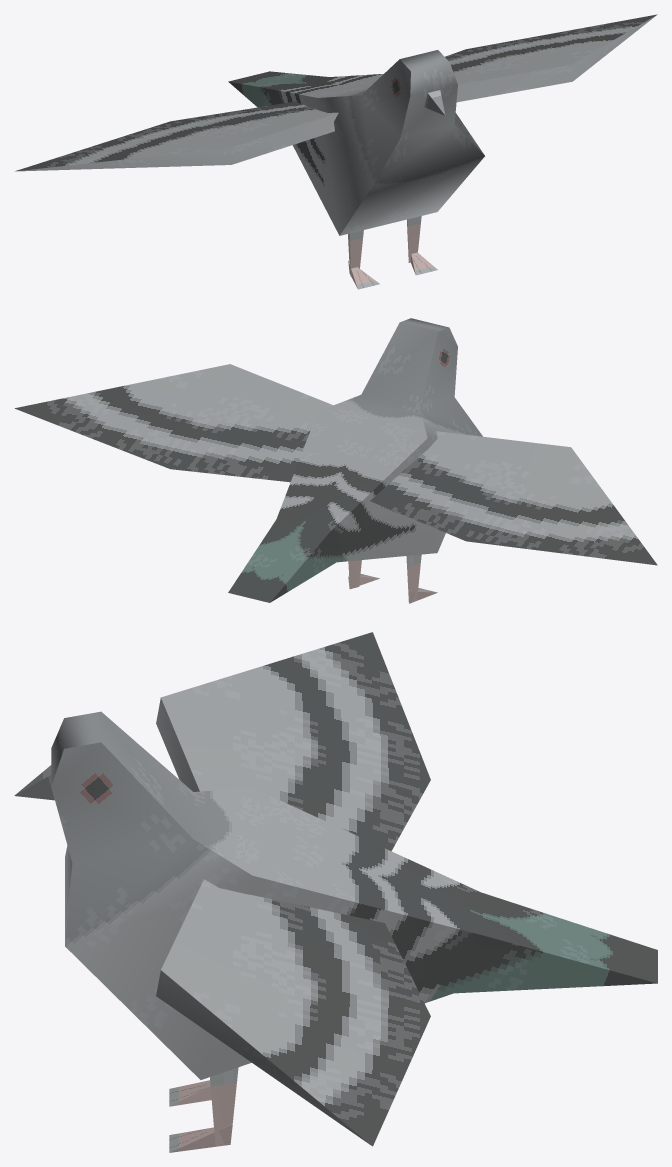
Rendered from 0207_Pigeon.glb.
3 renders of one model, top to bottom at view 1: azimuth 30°, elevation 25°; view 2: azimuth 150°, elevation 25°; view 3: azimuth 270°, elevation 25°, orthographic. The views are drawn at different scales.
Parts seen in each view (by area): view 1: part_0; view 2: part_0; view 3: part_0.
Part boxes in pixels (left/top/right/bottom): part_0: left=15, top=14, right=657, bottom=289; part_0: left=14, top=318, right=657, bottom=603; part_0: left=14, top=632, right=657, bottom=1152.
Size of the model in its own units: 0.4729 by 0.1688 by 0.25.
1 material, 1 textured.
